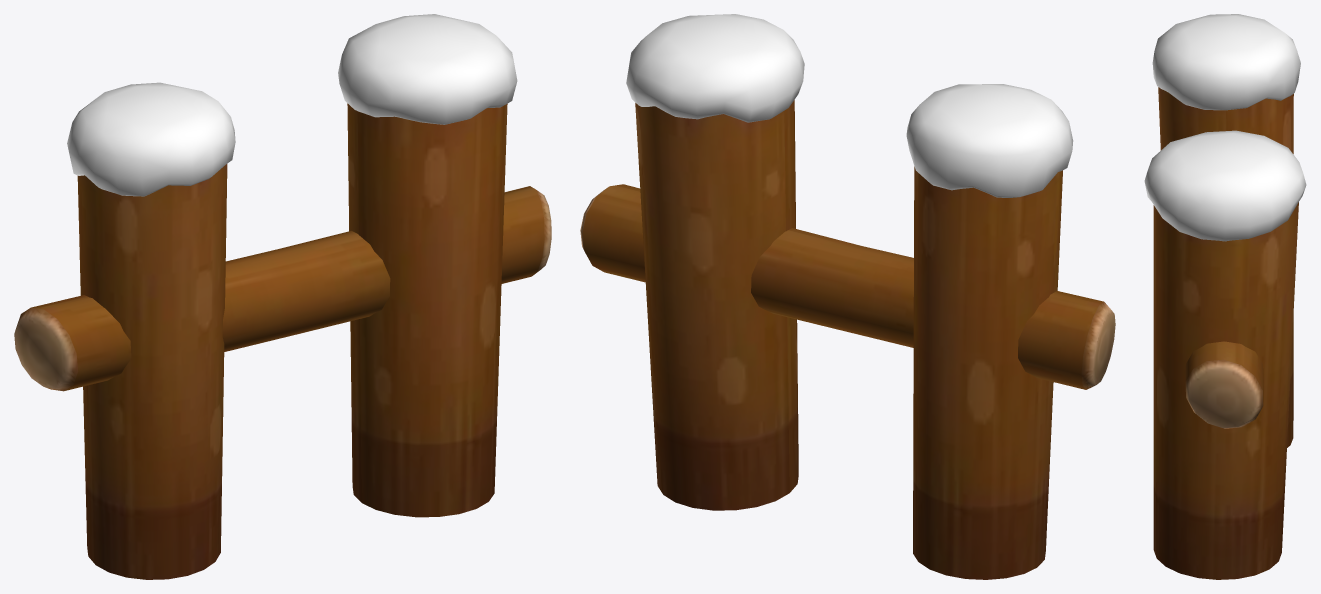
Rendered from fence-country-a.glb.
3 views of the same model, side by side, from view 1: azimuth 30°, elevation 25°; view 2: azimuth 150°, elevation 25°; view 3: azimuth 270°, elevation 25° (orthographic). The views are drawn at different scales.
Visible parts, largest first — view 1: FenceLog__FenceLog_A_node1, FenceLog__FenceLog_A_node2; view 2: FenceLog__FenceLog_A_node1, FenceLog__FenceLog_A_node2; view 3: FenceLog__FenceLog_A_node1, FenceLog__FenceLog_A_node2.
Part boxes in pixels (left/top/right/bottom): FenceLog__FenceLog_A_node1: left=14, top=103, right=551, bottom=579; FenceLog__FenceLog_A_node2: left=67, top=14, right=517, bottom=196; FenceLog__FenceLog_A_node1: left=580, top=100, right=1115, bottom=579; FenceLog__FenceLog_A_node2: left=626, top=14, right=1073, bottom=197; FenceLog__FenceLog_A_node1: left=1153, top=87, right=1298, bottom=579; FenceLog__FenceLog_A_node2: left=1144, top=14, right=1306, bottom=241.
Size of the model in its own units: 0.9932 by 0.8374 by 0.3002.
Materials: 2 (1 with a texture image).
